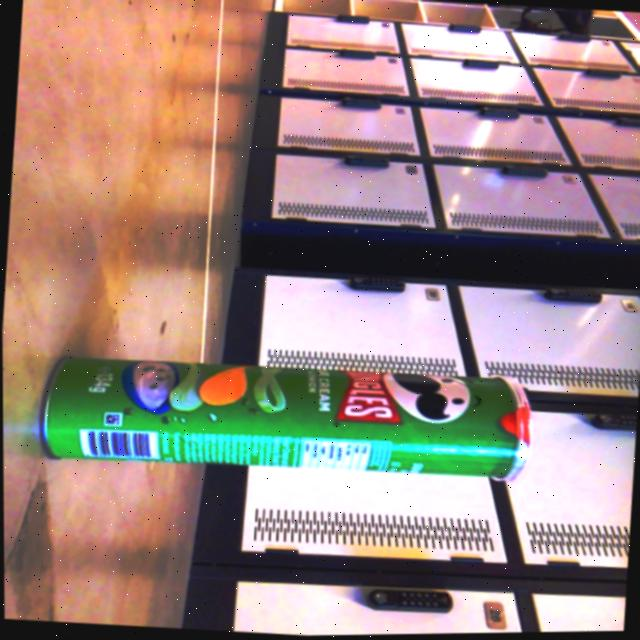greenpringles: (15, 333, 538, 522)
